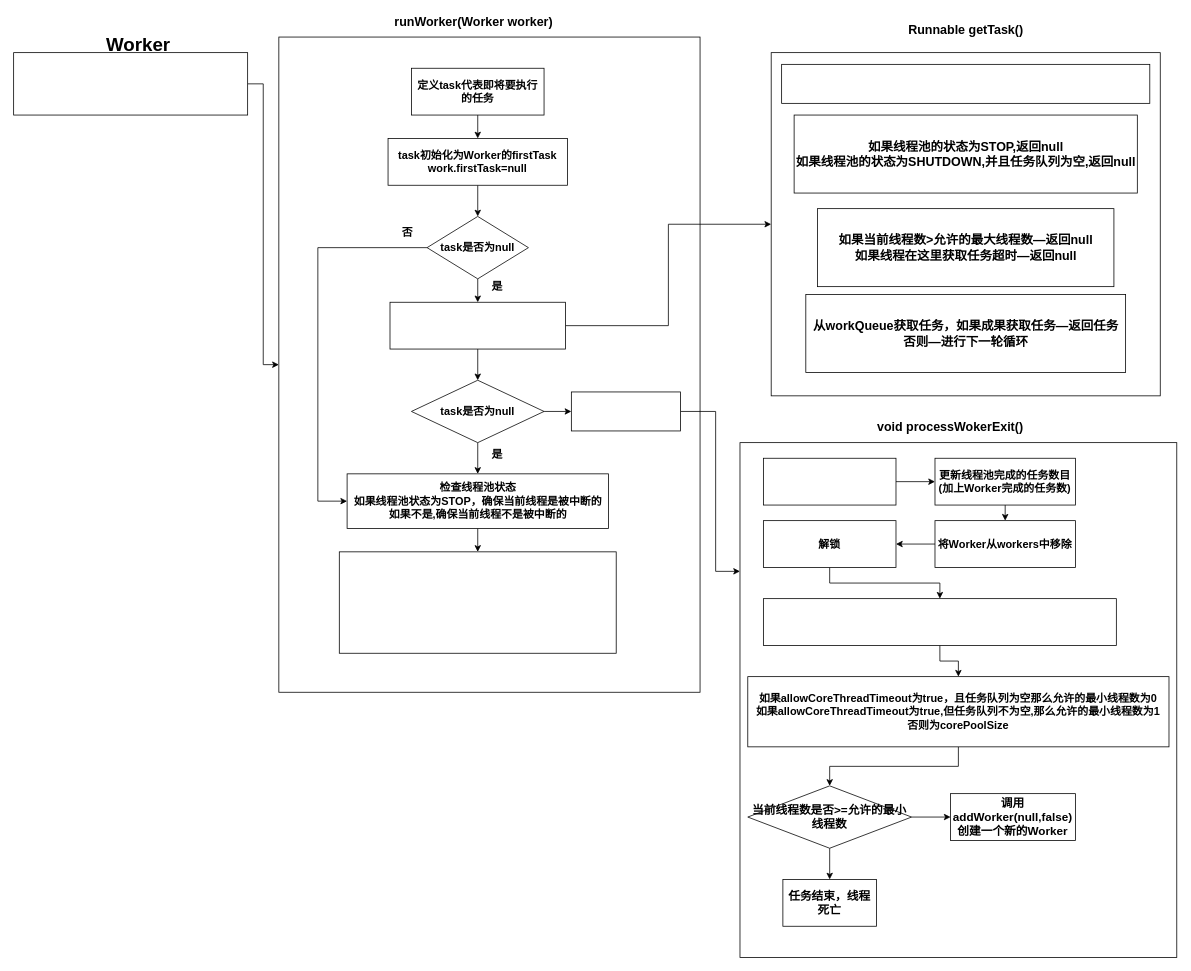
Image size: 1191x971. Some labels were removed from this diagram. The centre of each missing label's shape, as x and y in pixels:
1. 给Worker上锁 2. 执行任务task 3.task置为null，完成任务数+1，并给Worker解锁: (x=477, y=602)
run() {runWorker(this);} Worker中的线程执行后续步骤: (x=130, y=83)
取得全局锁mainLock 加锁: (x=829, y=481)
尝试关闭线程池(只有以下两种情况才会成功) 1.线程池的状态为SHUTDOWN,线程池没有线程,任务队列也是空的 2.线程池状态是STOP,并且线程池中没有线程: (x=939, y=621)
执行processWorkerExit(): (x=626, y=411)
线程会在这里不断循环，直到以下情况返回: (x=965, y=83)
调用getTask()从任务队列获取任务,赋值给task: (x=477, y=325)
